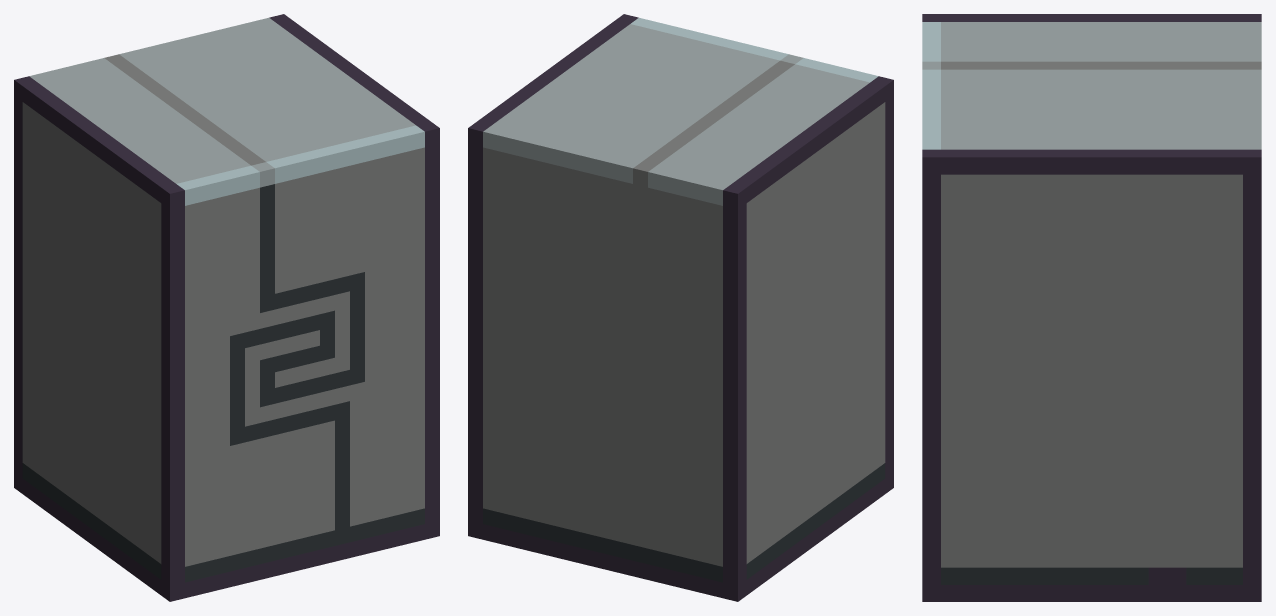
Rendered from wall1.obj.
3 views of the same model, side by side, from view 1: azimuth 30°, elevation 25°; view 2: azimuth 150°, elevation 25°; view 3: azimuth 270°, elevation 25° (orthographic). The views are drawn at different scales.
Bounding box in the file's own units: 1.8 × 2.6 × 1.8.
Materials: 1 (1 with a texture image).
